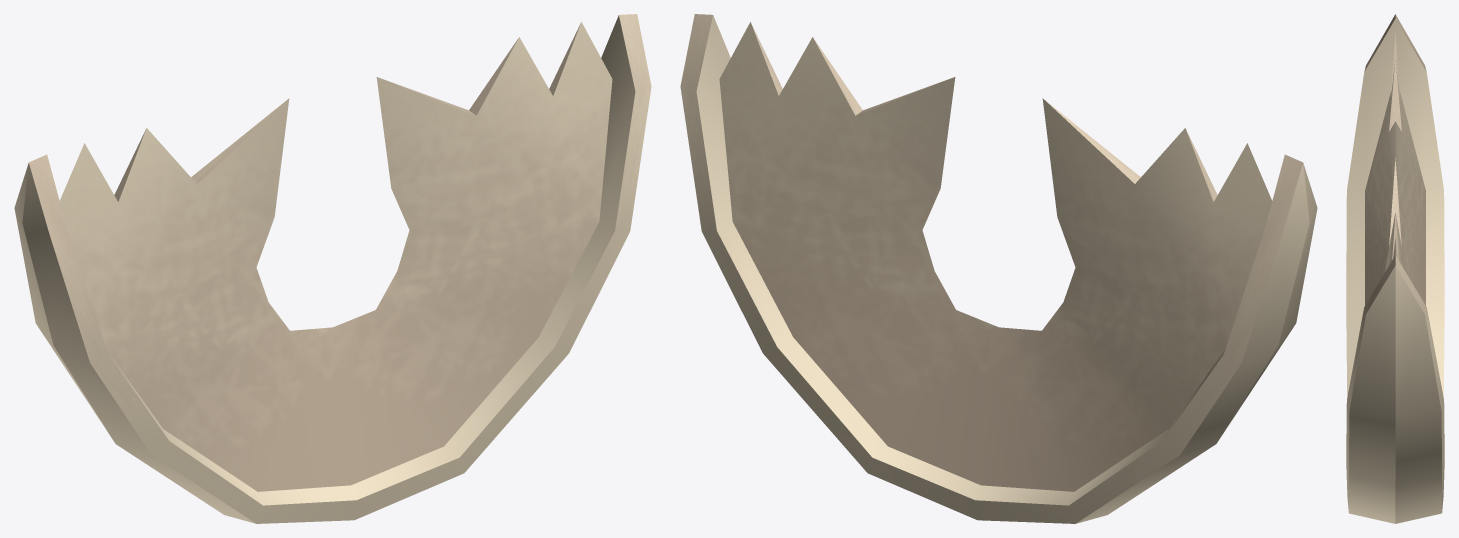
The model's file is bone_key_piece1.fbx.
3 views of the same model, side by side, from view 1: azimuth 30°, elevation 25°; view 2: azimuth 150°, elevation 25°; view 3: azimuth 270°, elevation 25° (orthographic). The views are drawn at different scales.
Visible parts, largest first — view 1: fin; view 2: fin; view 3: fin.
Boxes of the visible parts, x1=… form: fin: x1=14, y1=14, x2=651, y2=523; fin: x1=680, y1=14, x2=1317, y2=523; fin: x1=1346, y1=14, x2=1444, y2=523.
Bounding box in the file's own units: 4 × 0.6487 × 2.64.
